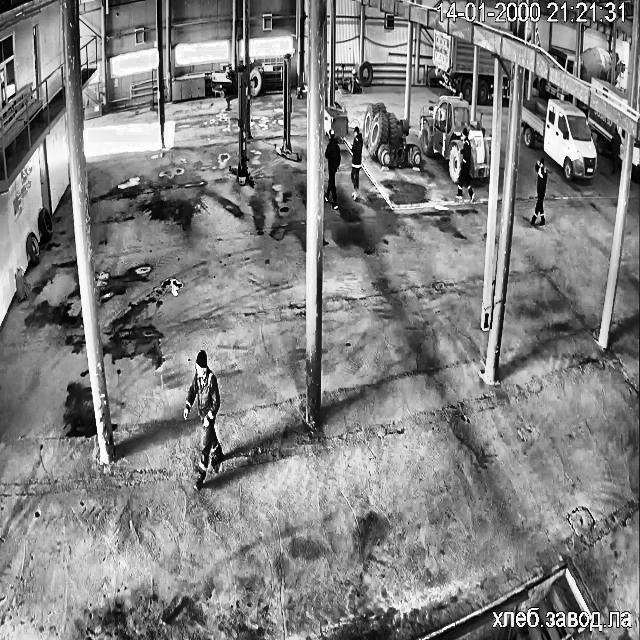class4: (184, 349, 224, 490), (456, 128, 474, 201), (324, 130, 340, 209), (530, 156, 547, 225), (351, 125, 363, 197), (611, 126, 620, 172)
class6: (420, 96, 489, 181), (363, 102, 420, 165)
class7: (522, 100, 596, 180), (432, 28, 473, 101), (588, 108, 626, 154), (580, 46, 624, 83), (476, 49, 493, 103), (592, 78, 628, 103), (535, 77, 571, 99), (548, 45, 575, 73), (500, 60, 510, 99), (632, 140, 640, 179)
tractor: (16, 268, 26, 300)
truck: (229, 65, 252, 186), (275, 54, 295, 161)
